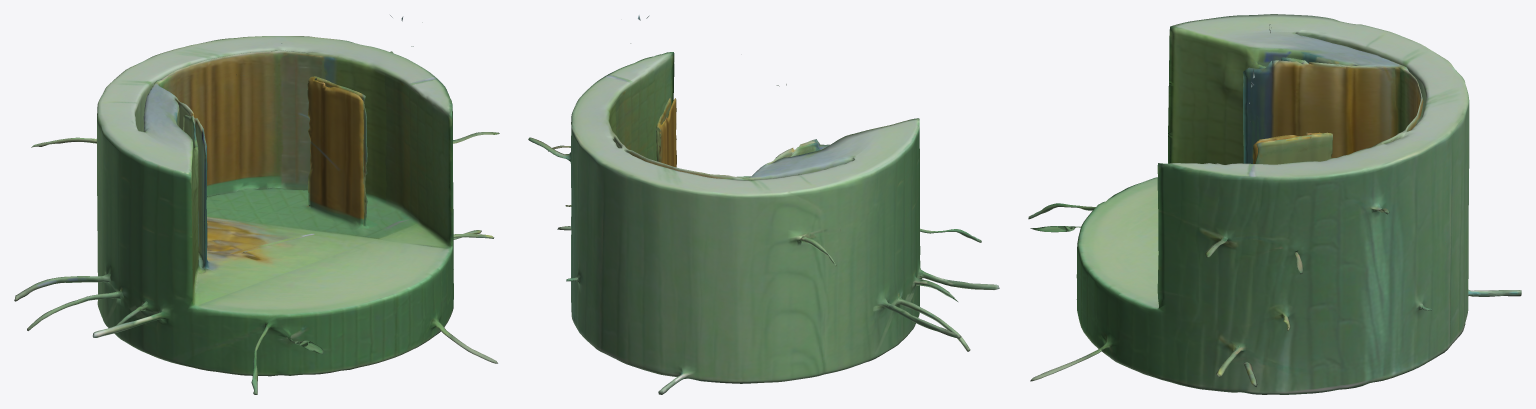
3 renders of one model, left to right at view 1: azimuth 30°, elevation 25°; view 2: azimuth 150°, elevation 25°; view 3: azimuth 270°, elevation 25°, orthographic. The views are drawn at different scales.
Parts seen in each view (by area): view 1: than, long_hut, dai_caspary; view 2: than, long_hut; view 3: than, mach_go, dai_caspary, long_hut.
Part boxes in pixels (box(x1,y1,x2,y2)): than: box(31, 15, 496, 394); long_hut: box(14, 51, 499, 394); dai_caspary: box(198, 130, 215, 271); than: box(548, 15, 923, 383); long_hut: box(528, 137, 999, 394); than: box(1076, 14, 1520, 394); mach_go: box(1271, 60, 1396, 158); dai_caspary: box(1243, 61, 1272, 163); long_hut: box(1028, 203, 1521, 386).
Bounding box in the file's own units: 2.01 × 1.22 × 1.77.
Materials: 1 (1 with a texture image).
